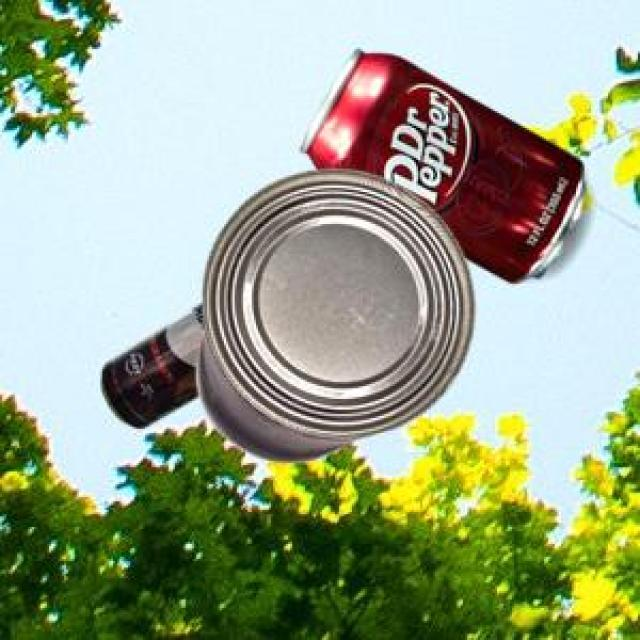Can: (193, 165, 470, 460), (298, 46, 581, 281), (99, 300, 202, 426)
